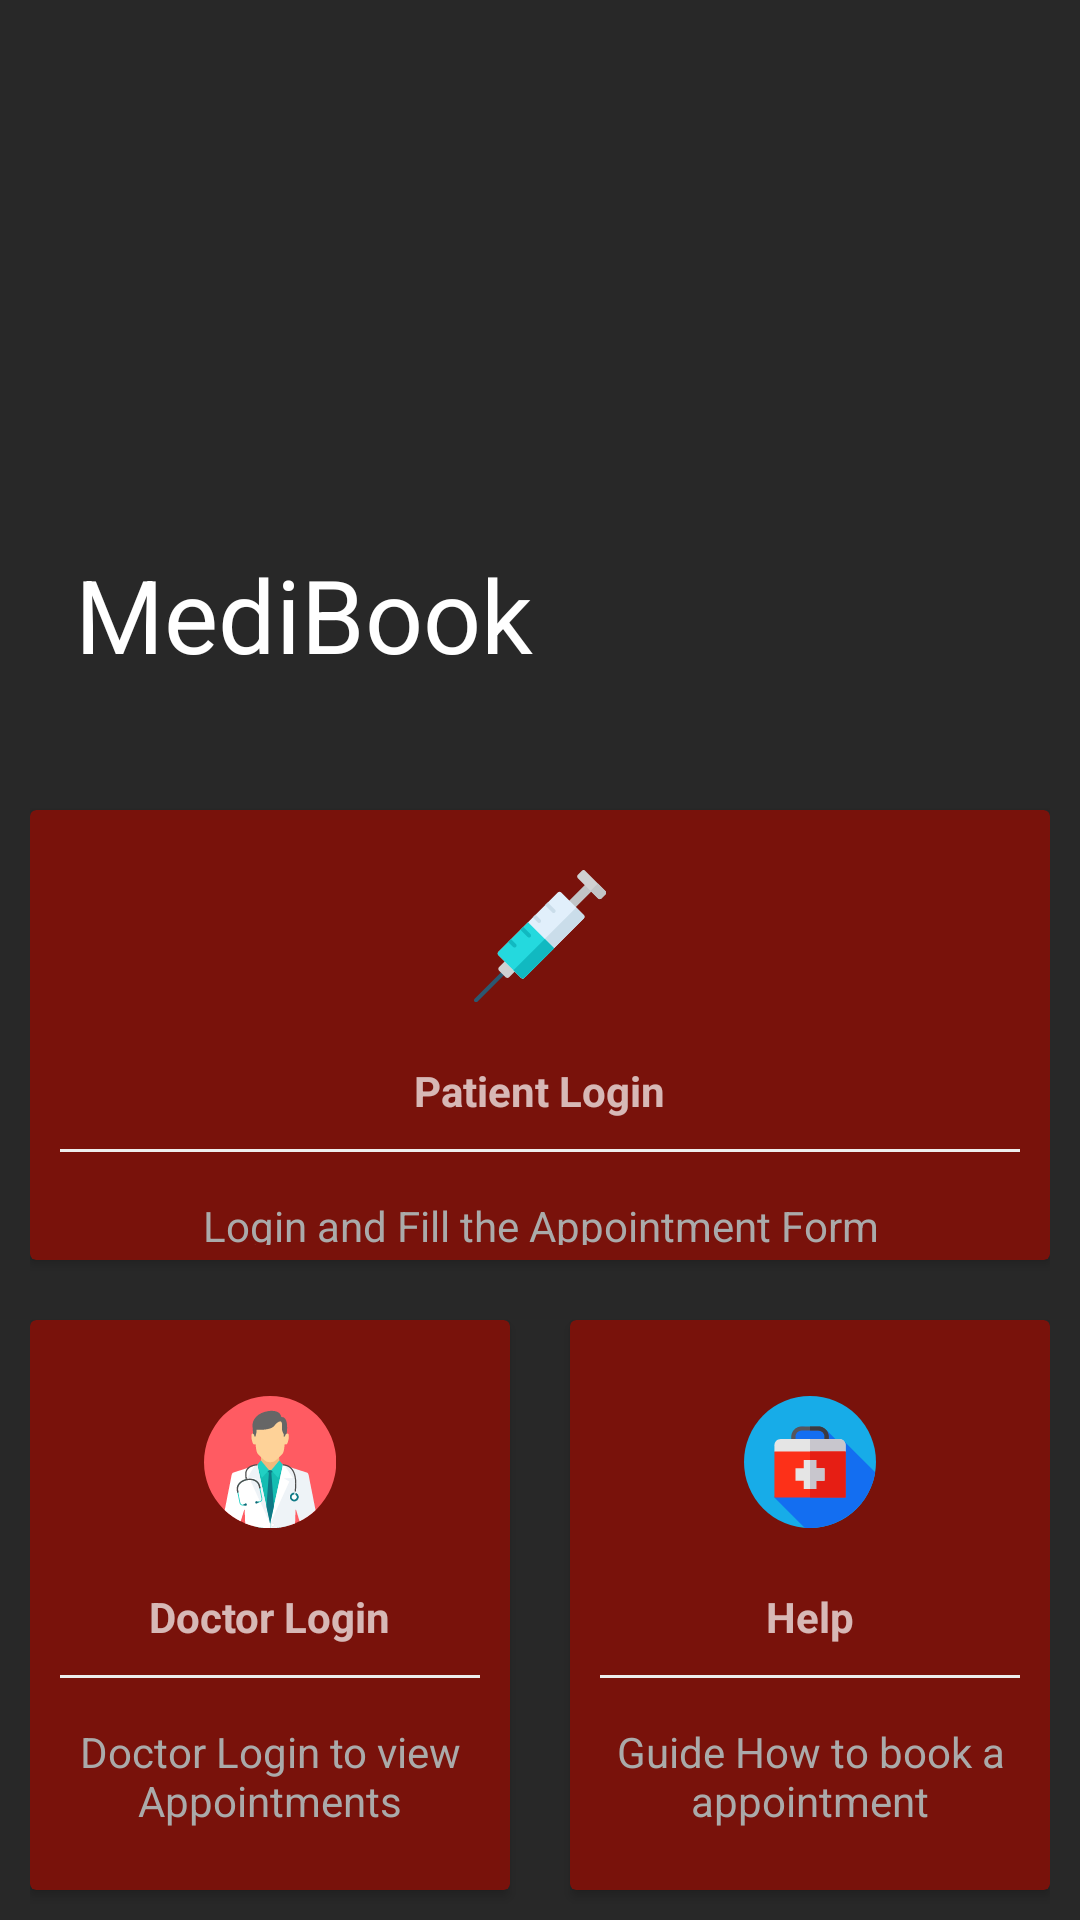

Icons on this 1080px×1920px Android screen, each with its box as (x1, y1, x2, y2):
first aid: (744, 1396, 876, 1528)
syringe: (474, 870, 606, 1002)
